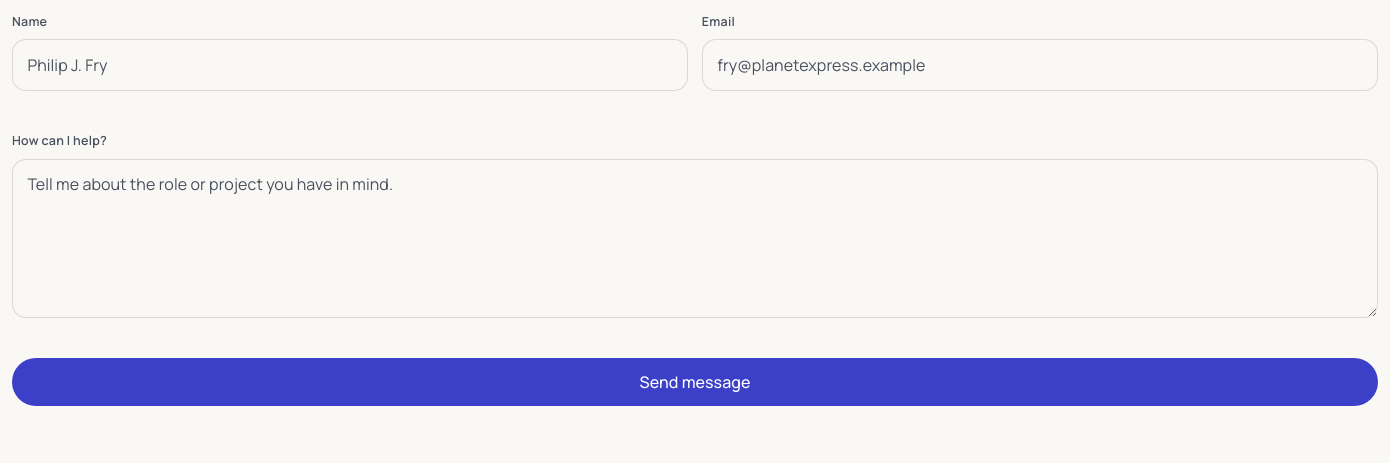
Test: ContactForm › surfaces field errors returned by the server
In the field labelled "Name": (350, 65) top-left (12, 39), bottom-right (688, 91), type "Philip J Fry"
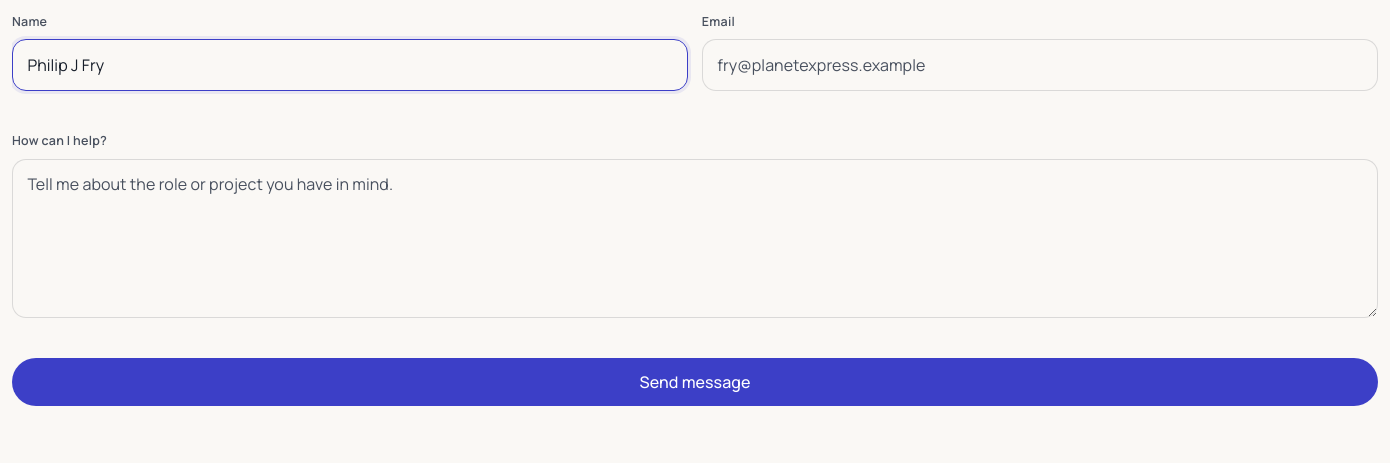
In the field labelled "Email": (1040, 65) top-left (702, 39), bottom-right (1378, 91), type "bender@planetexpress.com"
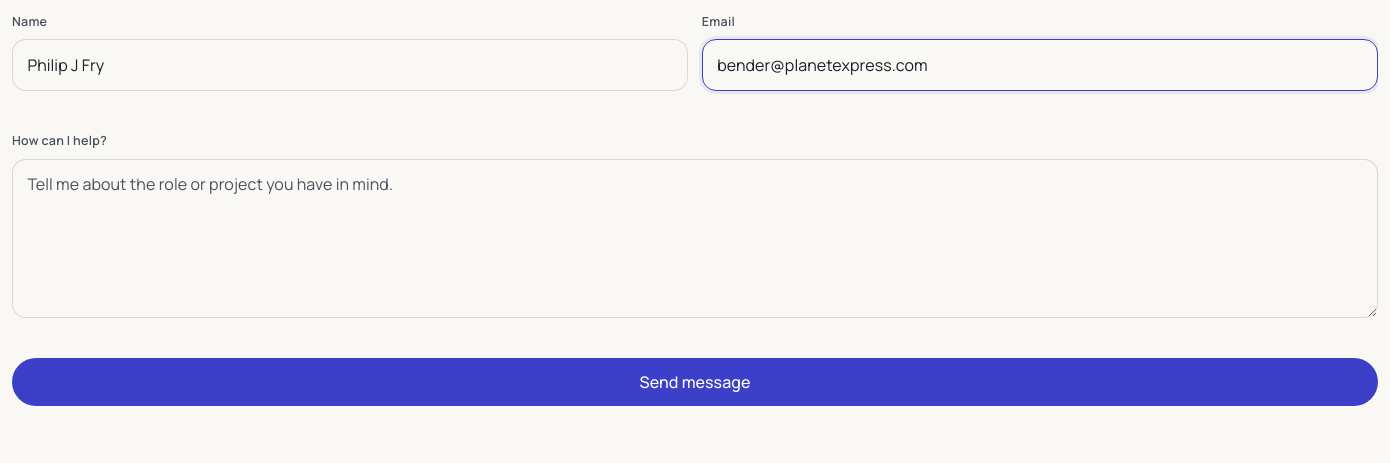
In the text box labelled "How can I help?": (695, 238) top-left (12, 159), bottom-right (1378, 318), type "Deliver a package to the Slurm factory"
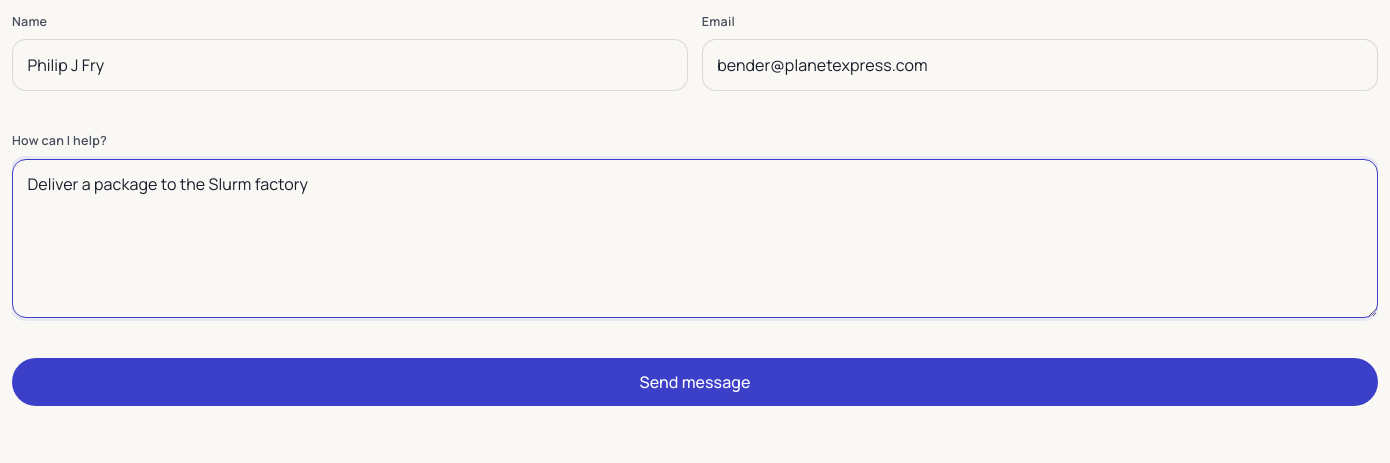
Click the button "Send message": (695, 382) top-left (12, 358), bottom-right (1378, 406)
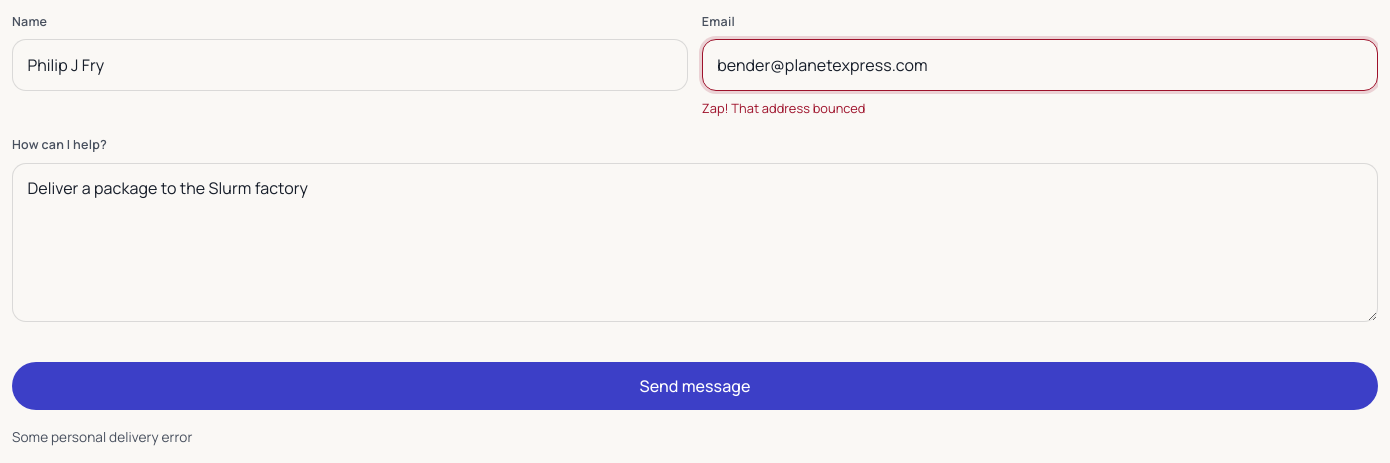
Expected: the text "Zap! That address bounced" is shown, top-left (702, 99), bottom-right (866, 117)
